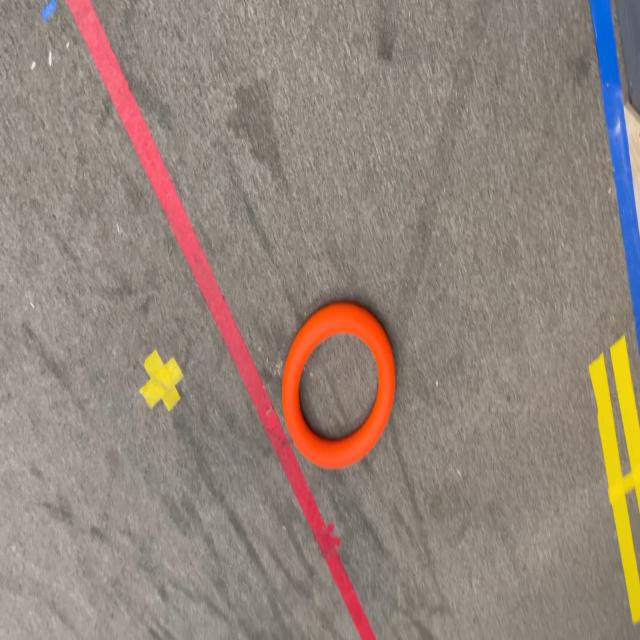note: (283, 304, 395, 470)
